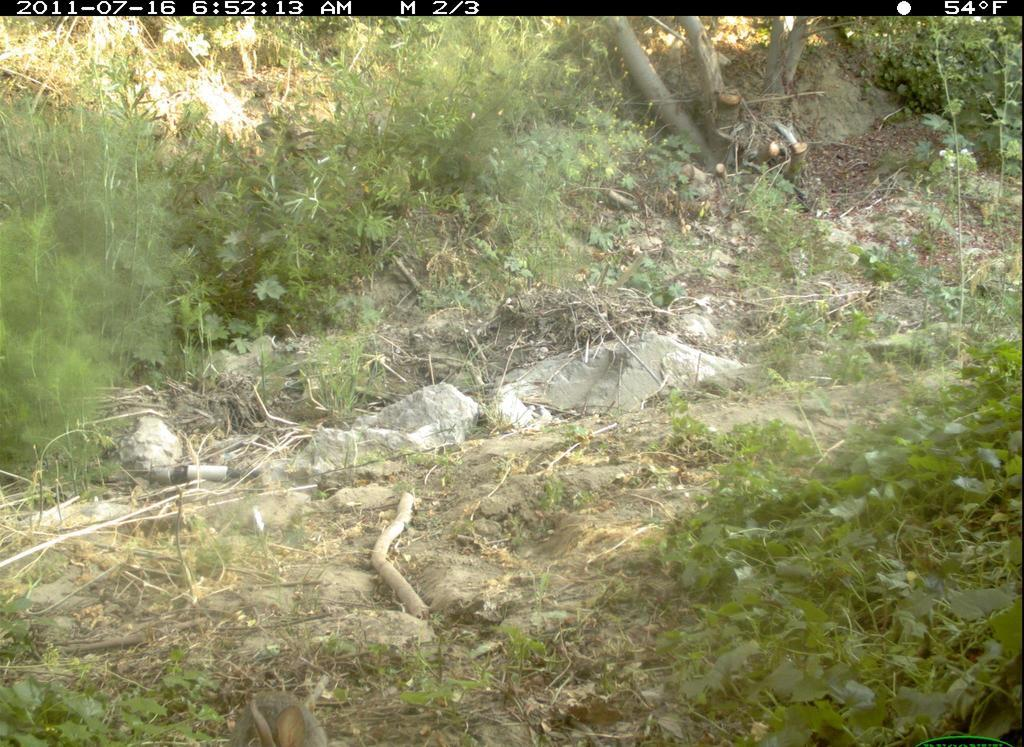rabbit: (221, 681, 336, 747)
